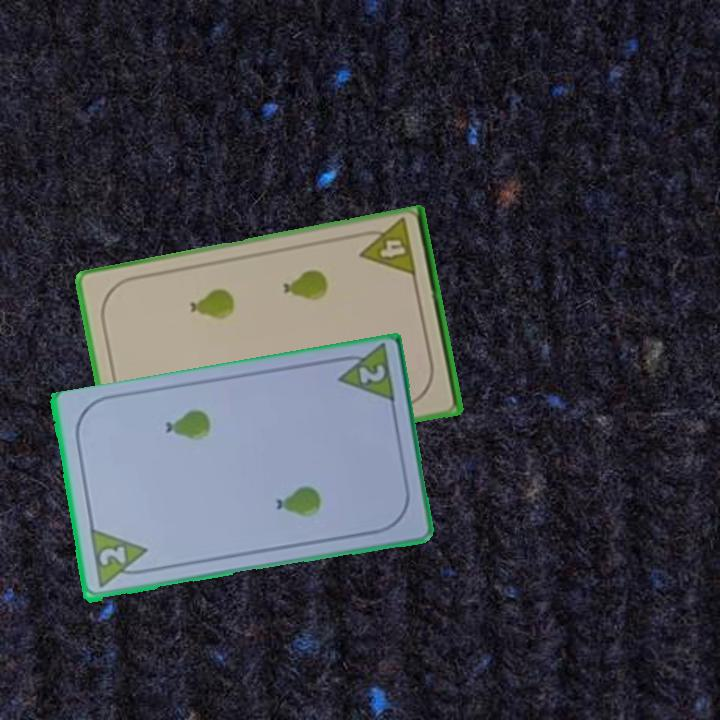2p: (329, 343, 398, 408), (85, 527, 152, 592)
4p: (354, 217, 419, 281)
